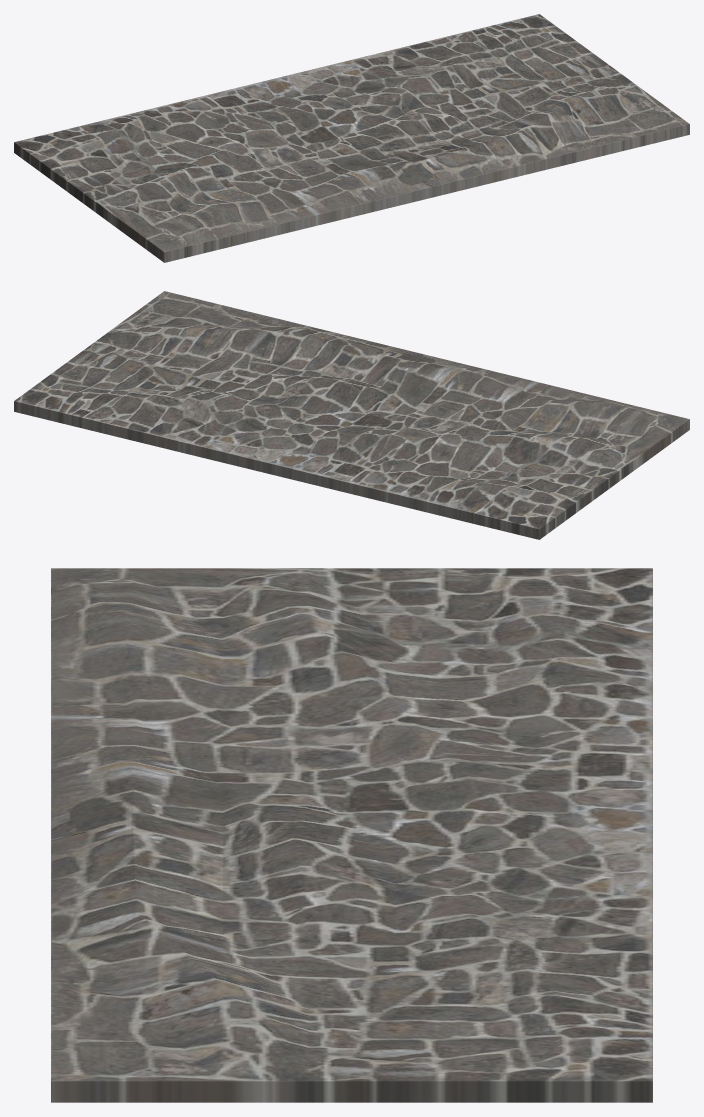
Rendered from Floor1.fbx.
3 views of the same model, one above another, from view 1: azimuth 30°, elevation 25°; view 2: azimuth 150°, elevation 25°; view 3: azimuth 270°, elevation 25° (orthographic). The views are drawn at different scales.
Visible parts, largest first — view 1: Plane; view 2: Plane; view 3: Plane.
Part boxes in pixels (x1,y1,x2,y2): Plane: [14, 14, 689, 262]; Plane: [14, 291, 689, 539]; Plane: [51, 568, 652, 1102].
Size of the model in its own units: 742 by 29.96 by 368.
